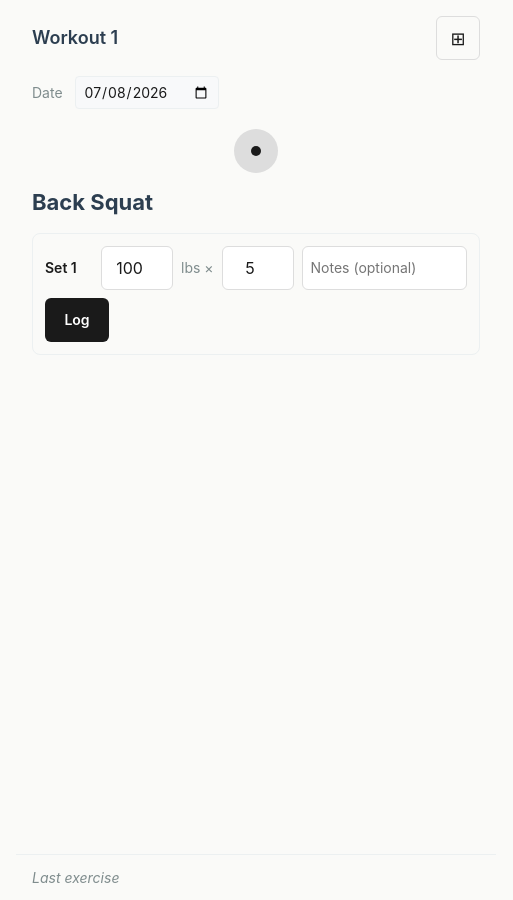
Scenario: WorkoutLogger — mutation failure logging (#783) › captures the underlying error and still shows the message when logging a set fails
Note: Default weight (100) and reps (5) are valid, so the click reaches createLiftRecord.
Click the button "Log" at (77, 320), box [45,298,109,342]
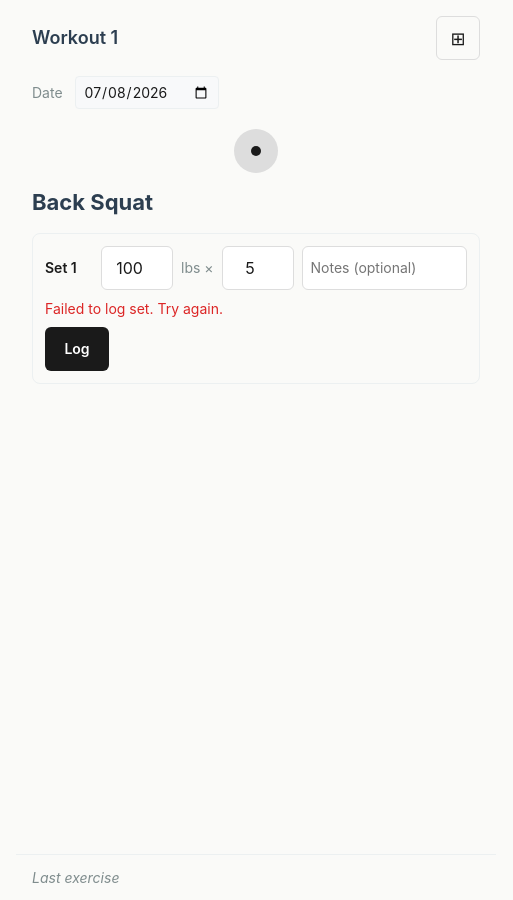
Result: the text "Failed to log set. Try again." is shown at [45,300,223,316]
